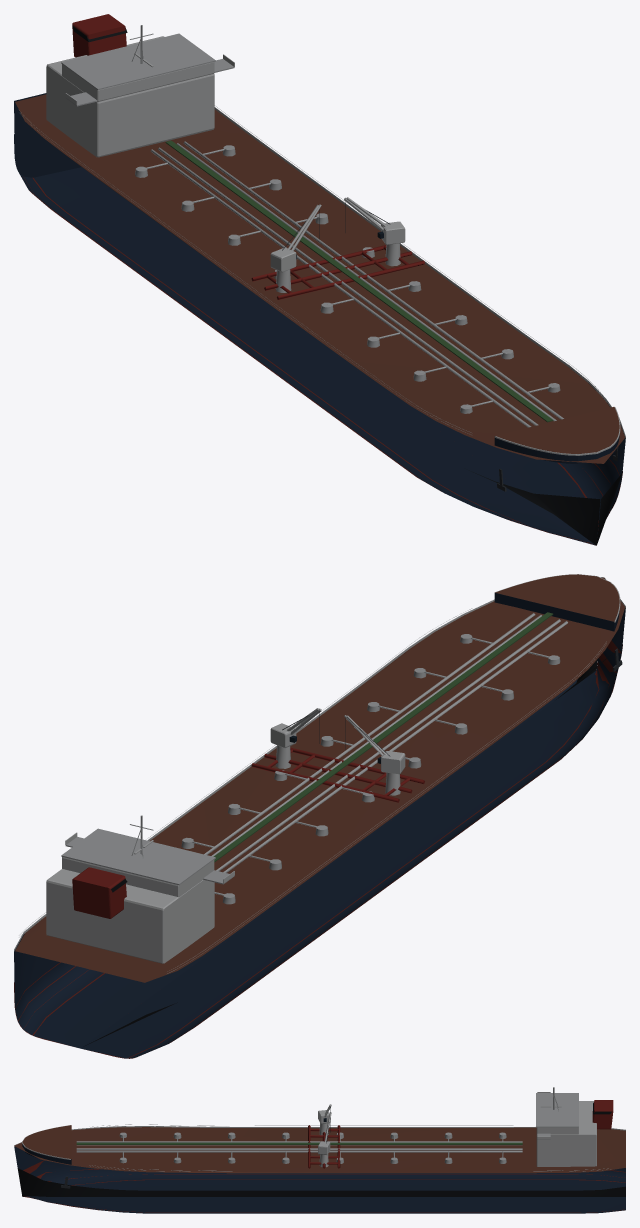
Rendered from tanker.glb.
3 renders of one model, top to bottom at view 1: azimuth 30°, elevation 25°; view 2: azimuth 150°, elevation 25°; view 3: azimuth 270°, elevation 25°, orthographic. The views are drawn at different scales.
Size of the model in its own units: 44 by 49.01 by 248.
